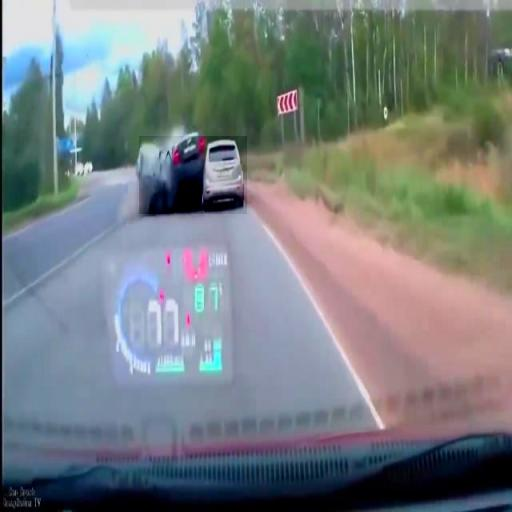小汽车撞小汽车: (140, 136, 248, 214)
